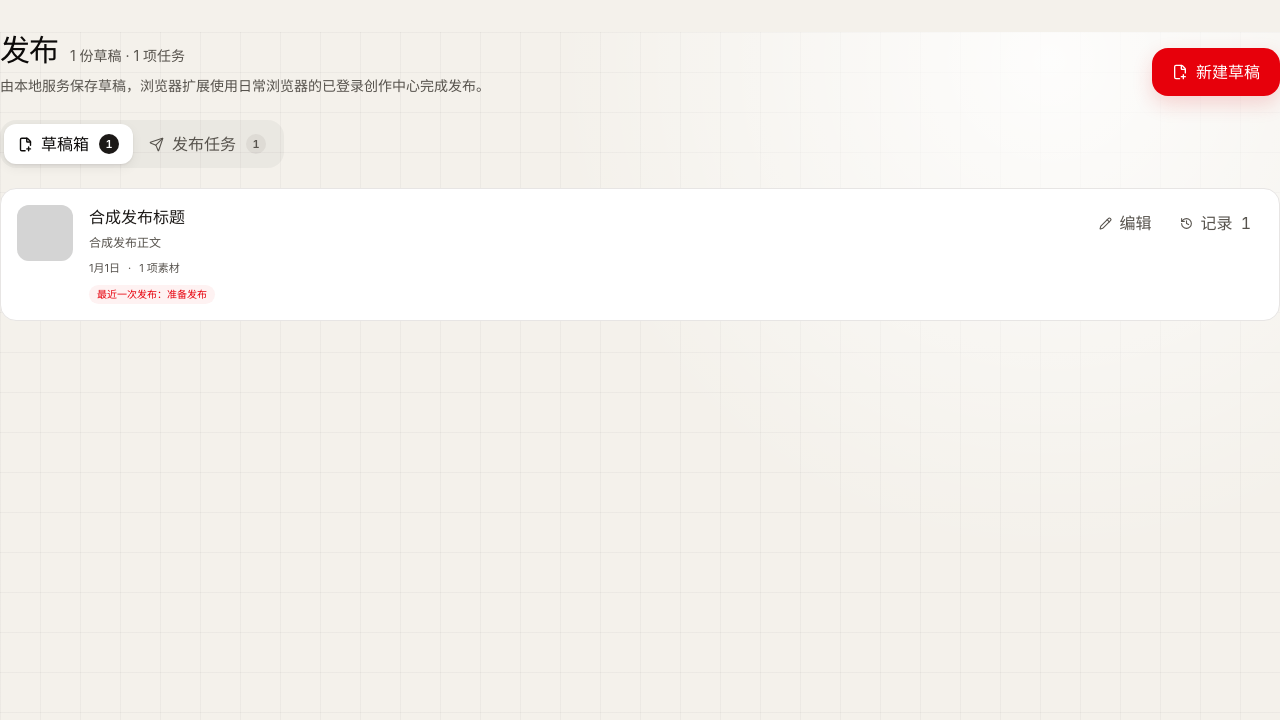
发布中心界面 › 点卡片看详情，编辑和记录各自是独立的框
This screenshot has width=1280, height=720.
Step 1. Click the button "合成发布标题" → (137, 217), box 89,205 -> 185,229
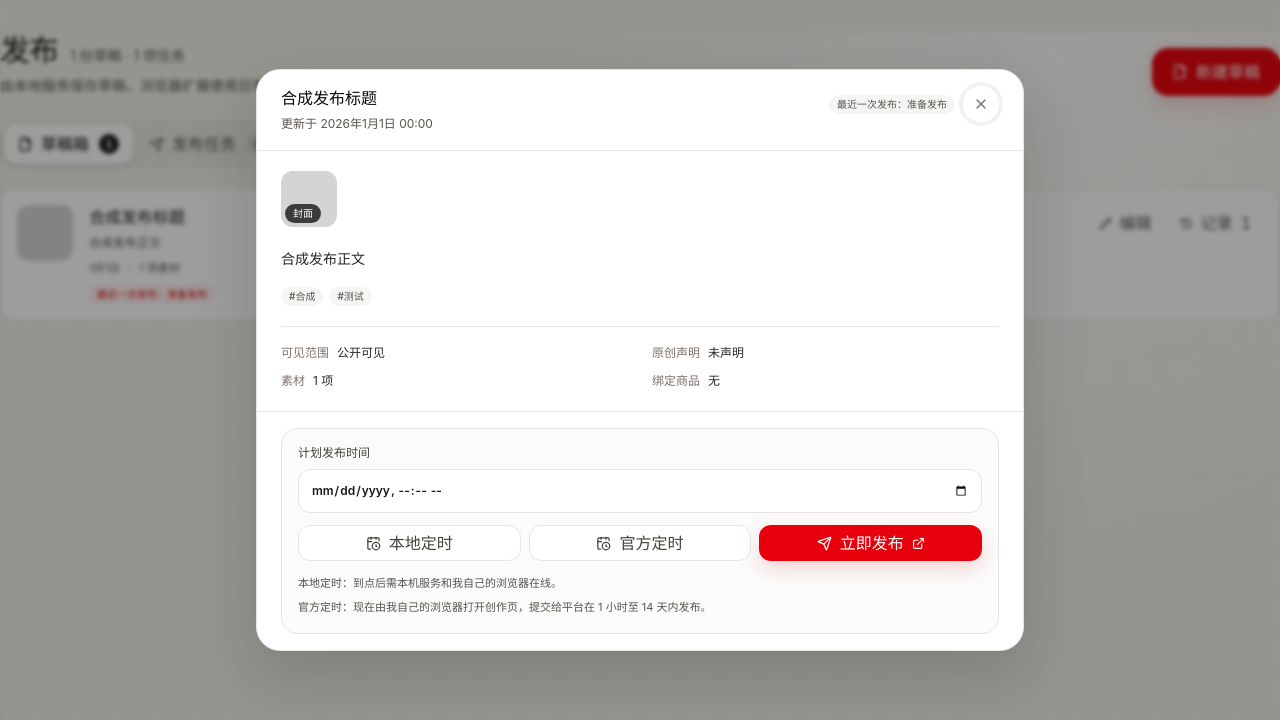
Expected: the button "立即发布" is shown, 759,525 -> 982,561
Step 2. Click the button named "关闭" → (981, 104), box 963,86 -> 999,122
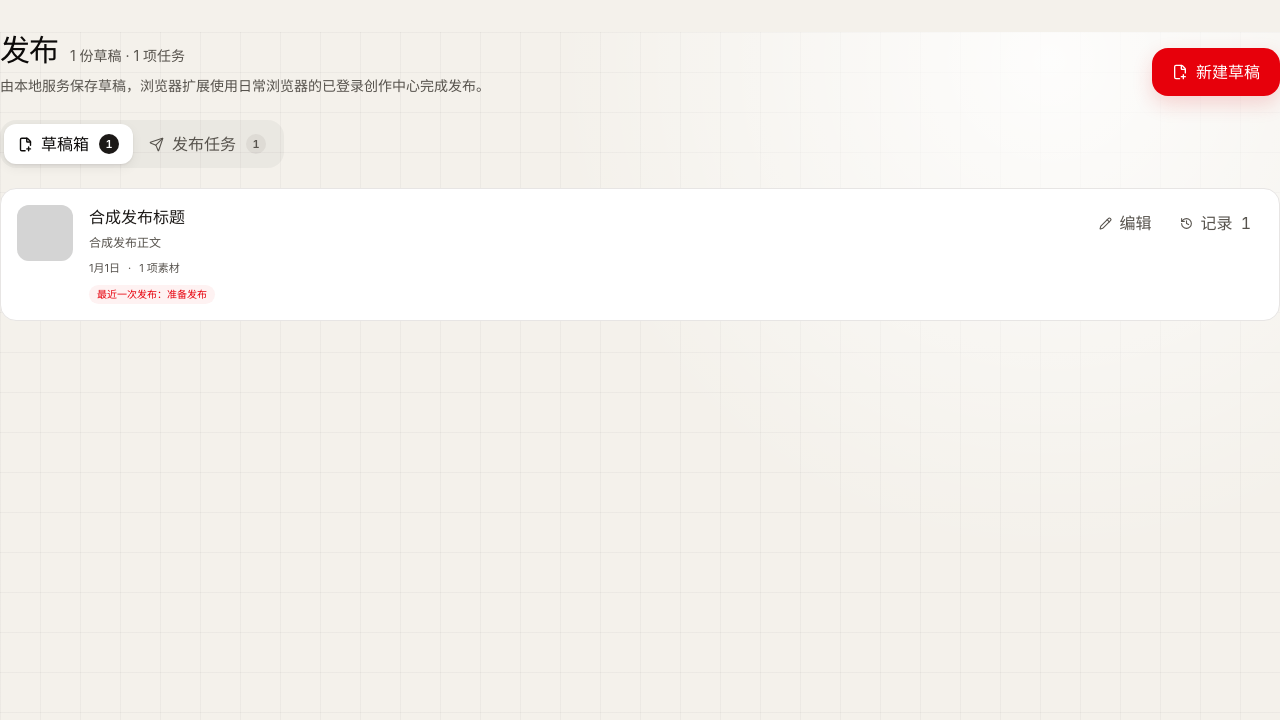
Step 3. Click the button "编辑" → (1125, 223), box 1087,205 -> 1164,241
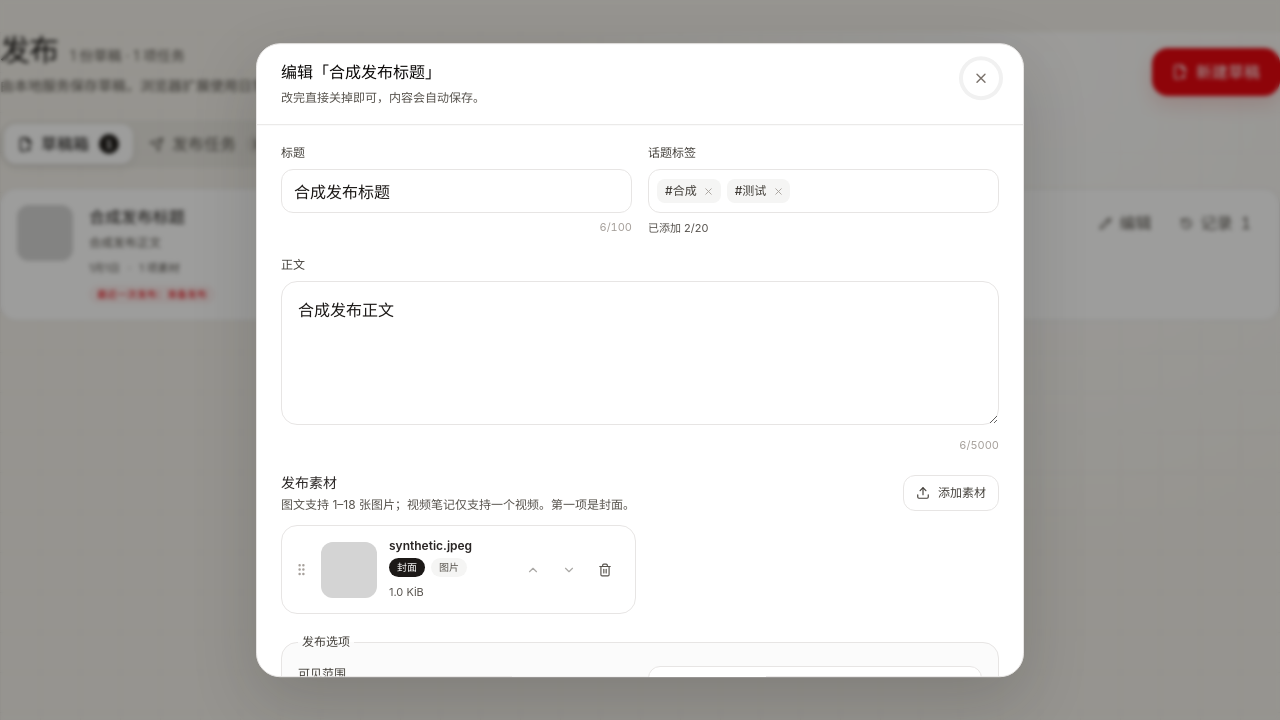
Expected: the text "发布记录" is not shown
Expected: the text box labelled "正文" is shown, 281,281 -> 999,425
Step 4. Click the button named "关闭" → (981, 78), box 963,60 -> 999,96
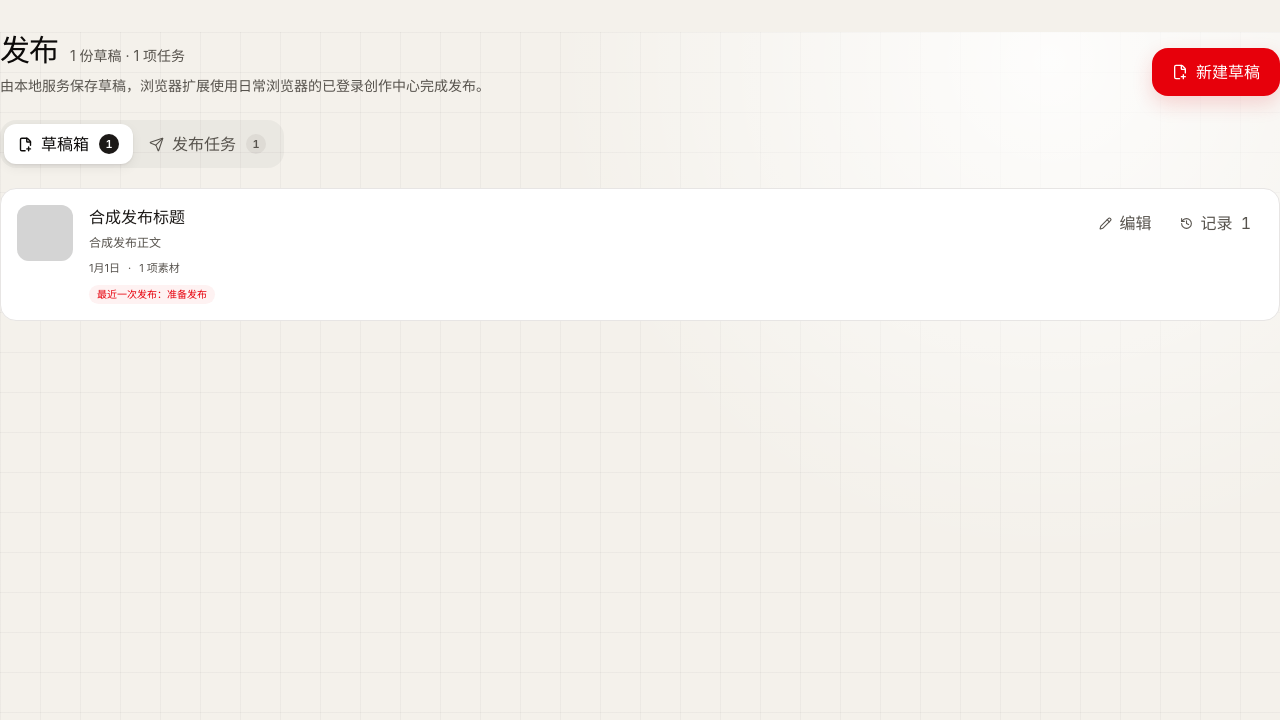
Step 5. Click the button "记录 1" → (1215, 223), box 1168,205 -> 1263,241
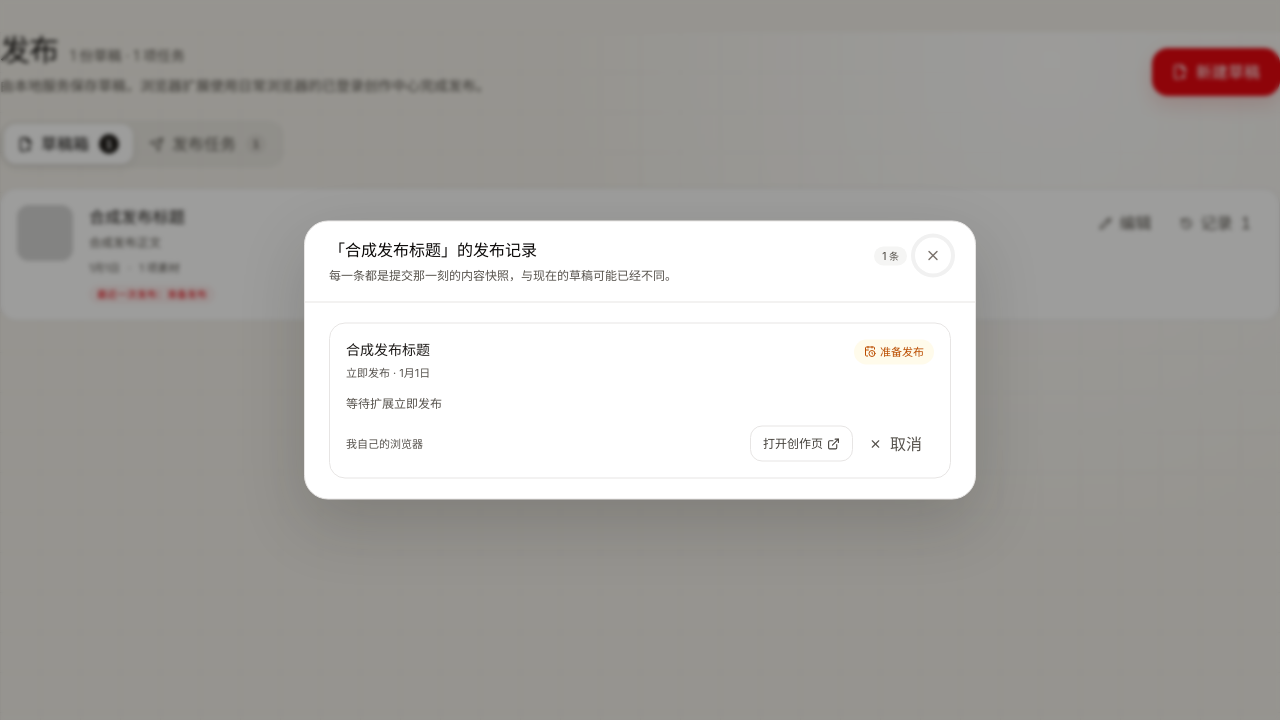
Expected: the heading "「合成发布标题」的发布记录" is shown, 329,240 -> 537,260
